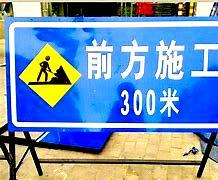sign: (7, 20, 217, 131)
